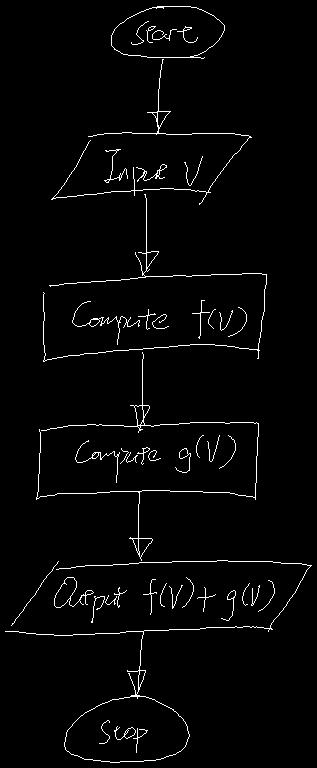arrow: (135, 194, 158, 276), (147, 59, 170, 134), (129, 492, 152, 560), (130, 352, 149, 432), (127, 632, 145, 698)
data: (5, 560, 311, 635), (51, 132, 251, 204)
process: (43, 273, 266, 361), (36, 422, 258, 499)
terminator: (64, 695, 189, 762), (111, 6, 224, 58)
text: (54, 577, 274, 622), (72, 300, 246, 344), (75, 435, 235, 482), (104, 149, 202, 195), (99, 720, 147, 752), (131, 21, 197, 44)
